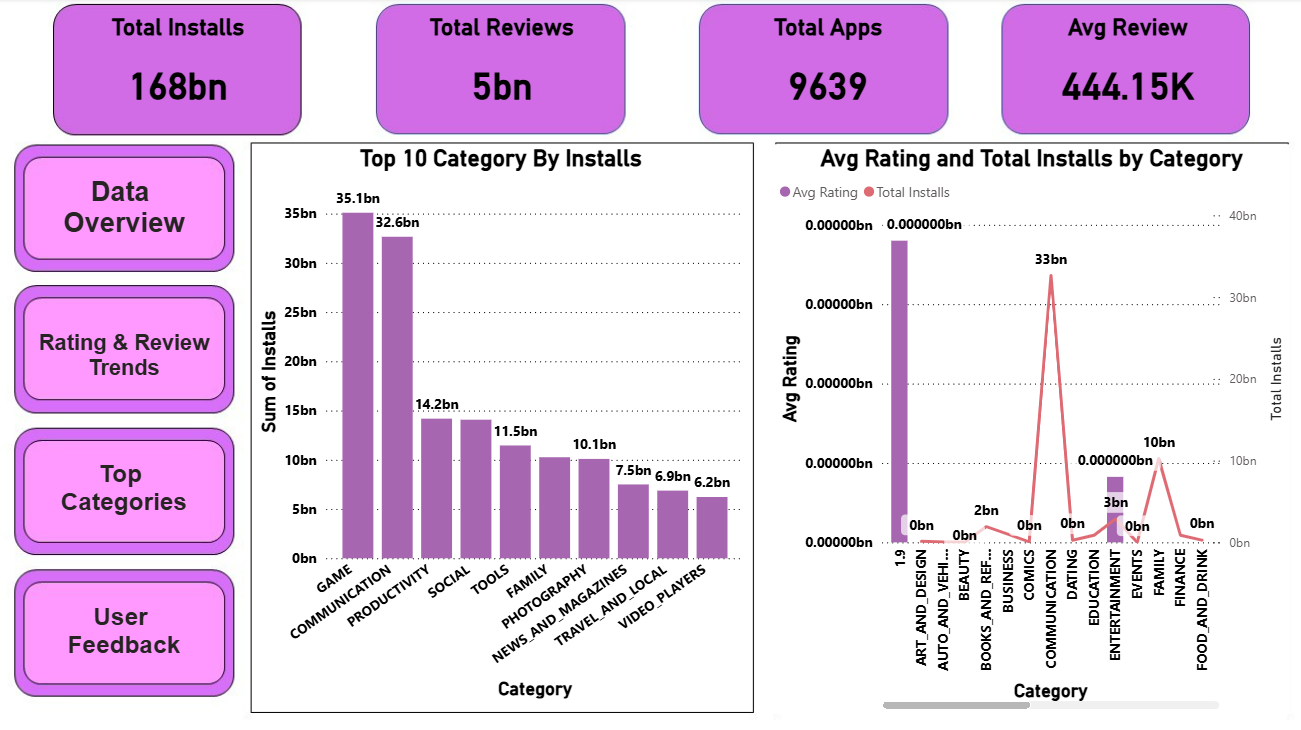

The dashboard page shown, as its layout file describes it:
{"tool":"powerbi","page":{"name":"Page 2","canvas":[1280,720],"ordinal":1},"visuals":[{"type":"card","title":"Total Installs","fields":{"Values":["Play Store Data.Total Installs"]},"box":[72.3,14.5,206.7,111.3],"z":0},{"type":"card","title":"Total Reviews","fields":{"Values":["Play Store Data.Total Reviews"]},"box":[390.4,14.5,206.7,111.3],"z":1000},{"type":"card","title":"Total Apps","fields":{"Values":["Play Store Data.No Of Apps"]},"box":[709.9,14.5,206.7,111.3],"z":2000},{"type":"card","title":"Avg Review","fields":{"Values":["Play Store Data.Avg Review"]},"box":[1004.8,14.5,206.7,111.3],"z":3000},{"type":"textbox","box":[28.9,170.6,186.5,78.1],"z":4000},{"type":"textbox","box":[28.9,321,186.5,78.1],"z":5000},{"type":"textbox","box":[28.9,449.6,186.5,72.3],"z":6000},{"type":"textbox","box":[28.9,588.4,186.5,70.8],"z":7000},{"type":"columnChart","title":"Top 10 Category By Installs","fields":{"Category":["Play Store Data.Category"],"Y":["Sum(Play Store Data.Installs)"]},"box":[248.7,143.1,487.2,549.4],"z":8000},{"type":"lineStackedColumnComboChart","fields":{"Category":["Play Store Data.Category"],"Y":["Play Store Data.Avg Rating"],"Y2":["Play Store Data.Total Installs"]},"box":[760.5,143.1,506,559.5],"z":9000}]}

Visuals, with their boxes in screenshot pixels (x1, y1, x2, y2), scaled from the page's 1280x720 canvas onto the 1301x730 screenshot:
"Total Installs" card: 73 15 284 128
"Total Reviews" card: 397 15 607 128
"Total Apps" card: 722 15 932 128
"Avg Review" card: 1021 15 1231 128
textbox: 29 173 219 252
textbox: 29 325 219 405
textbox: 29 456 219 529
textbox: 29 597 219 668
"Top 10 Category By Installs" columnChart: 253 145 748 702
lineStackedColumnComboChart - Play Store Data.Category x Play Store Data.Avg Rating: 773 145 1287 712
